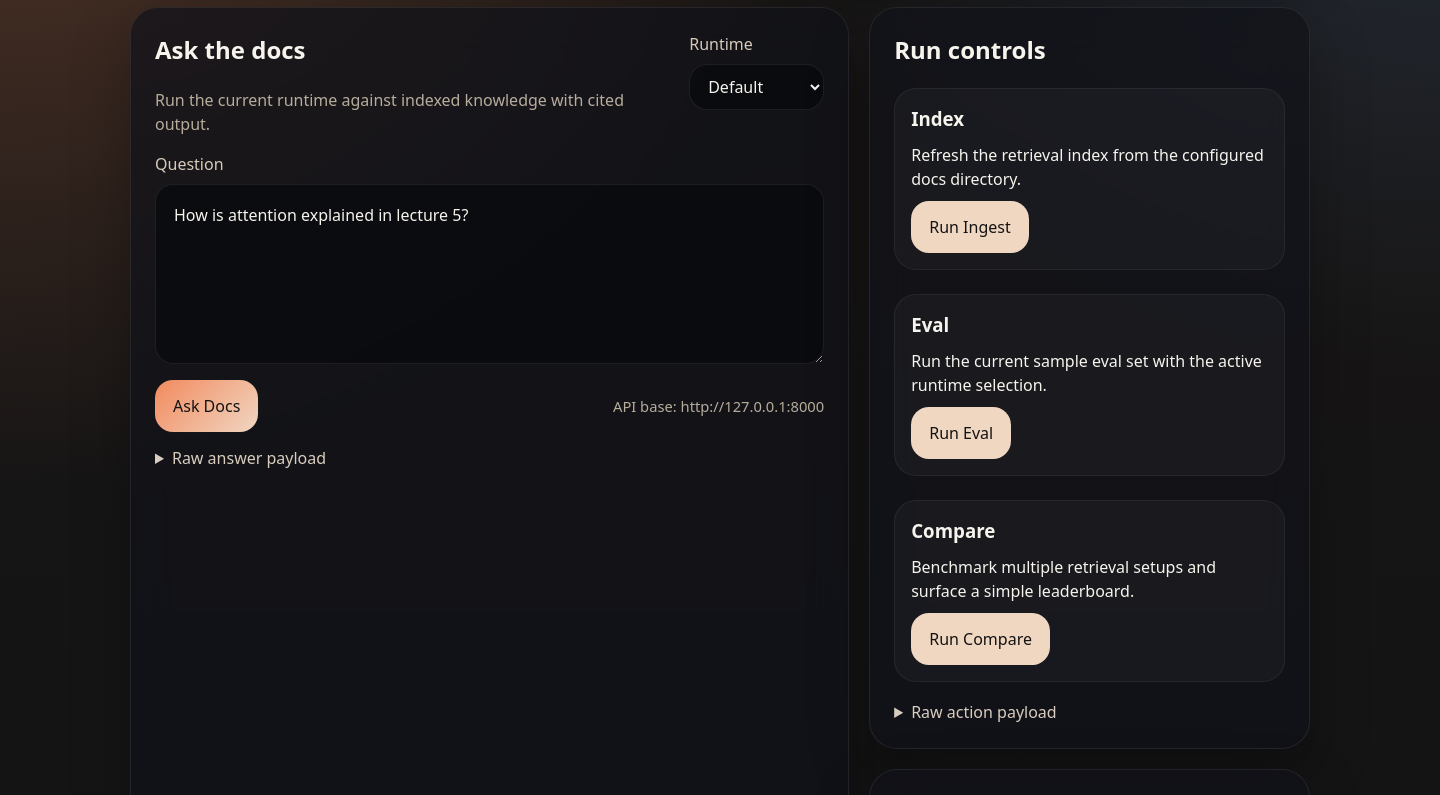
Test: shows an ask provider failure outside the raw payload
(page scrolled)
What coordinates should you click on to do the following:
click the button "Ask Docs"
I would click on:
 (207, 406)
Its box is [155, 380, 258, 432].
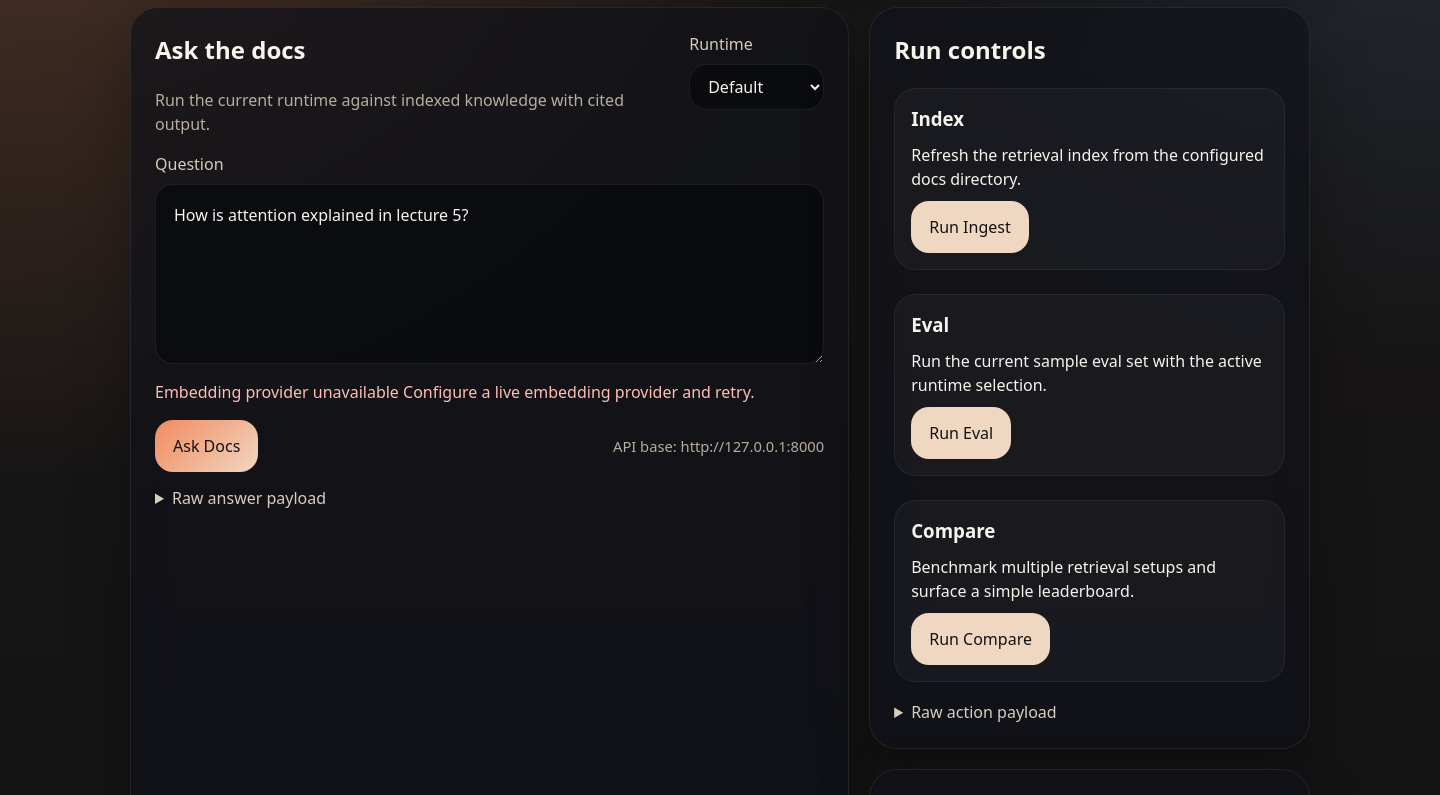
Expected: the message shows "Embedding provider unavailable", [155, 381, 754, 403]
Expected: the message shows "Configure a live embedding provider and retry.", [155, 381, 754, 403]
